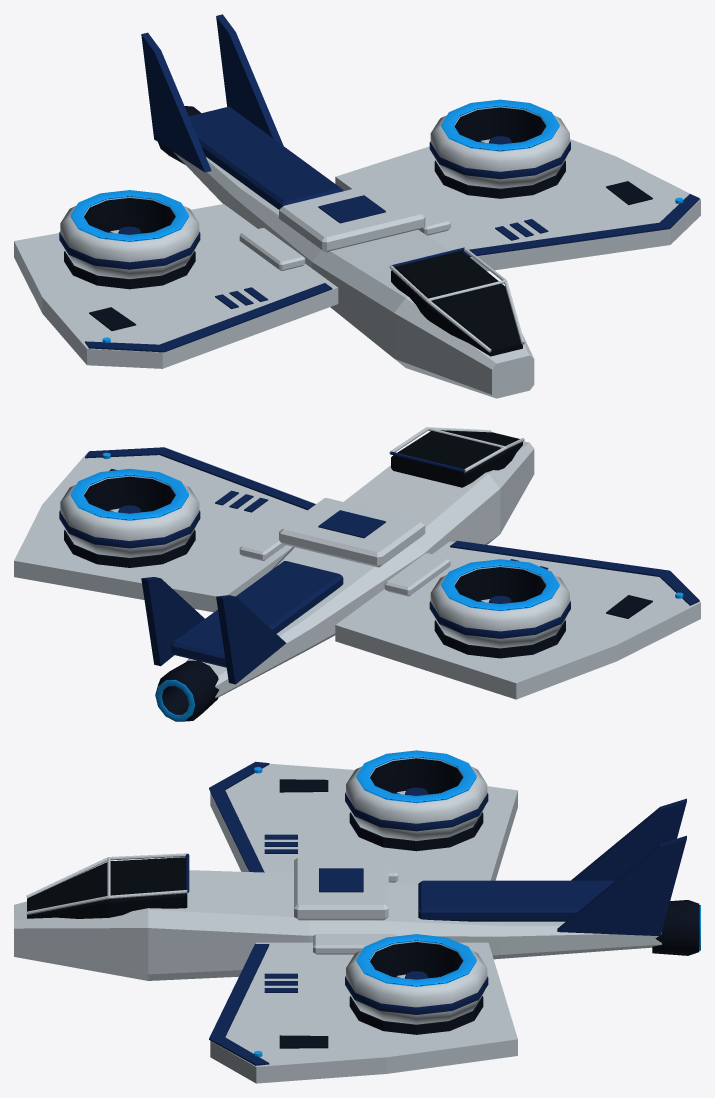
The model's file is nave_astra.obj.
3 renders of one model, top to bottom at view 1: azimuth 30°, elevation 25°; view 2: azimuth 150°, elevation 25°; view 3: azimuth 270°, elevation 25°, orthographic.
Parts seen in each view (by area): view 1: Nave_Astra; view 2: Nave_Astra; view 3: Nave_Astra.
Part boxes in pixels (left/top/right/bottom): Nave_Astra: left=14, top=14, right=700, bottom=398; Nave_Astra: left=14, top=427, right=700, bottom=721; Nave_Astra: left=14, top=750, right=700, bottom=1083.
Size of the model in its own units: 11 by 2.39 by 10.49.
